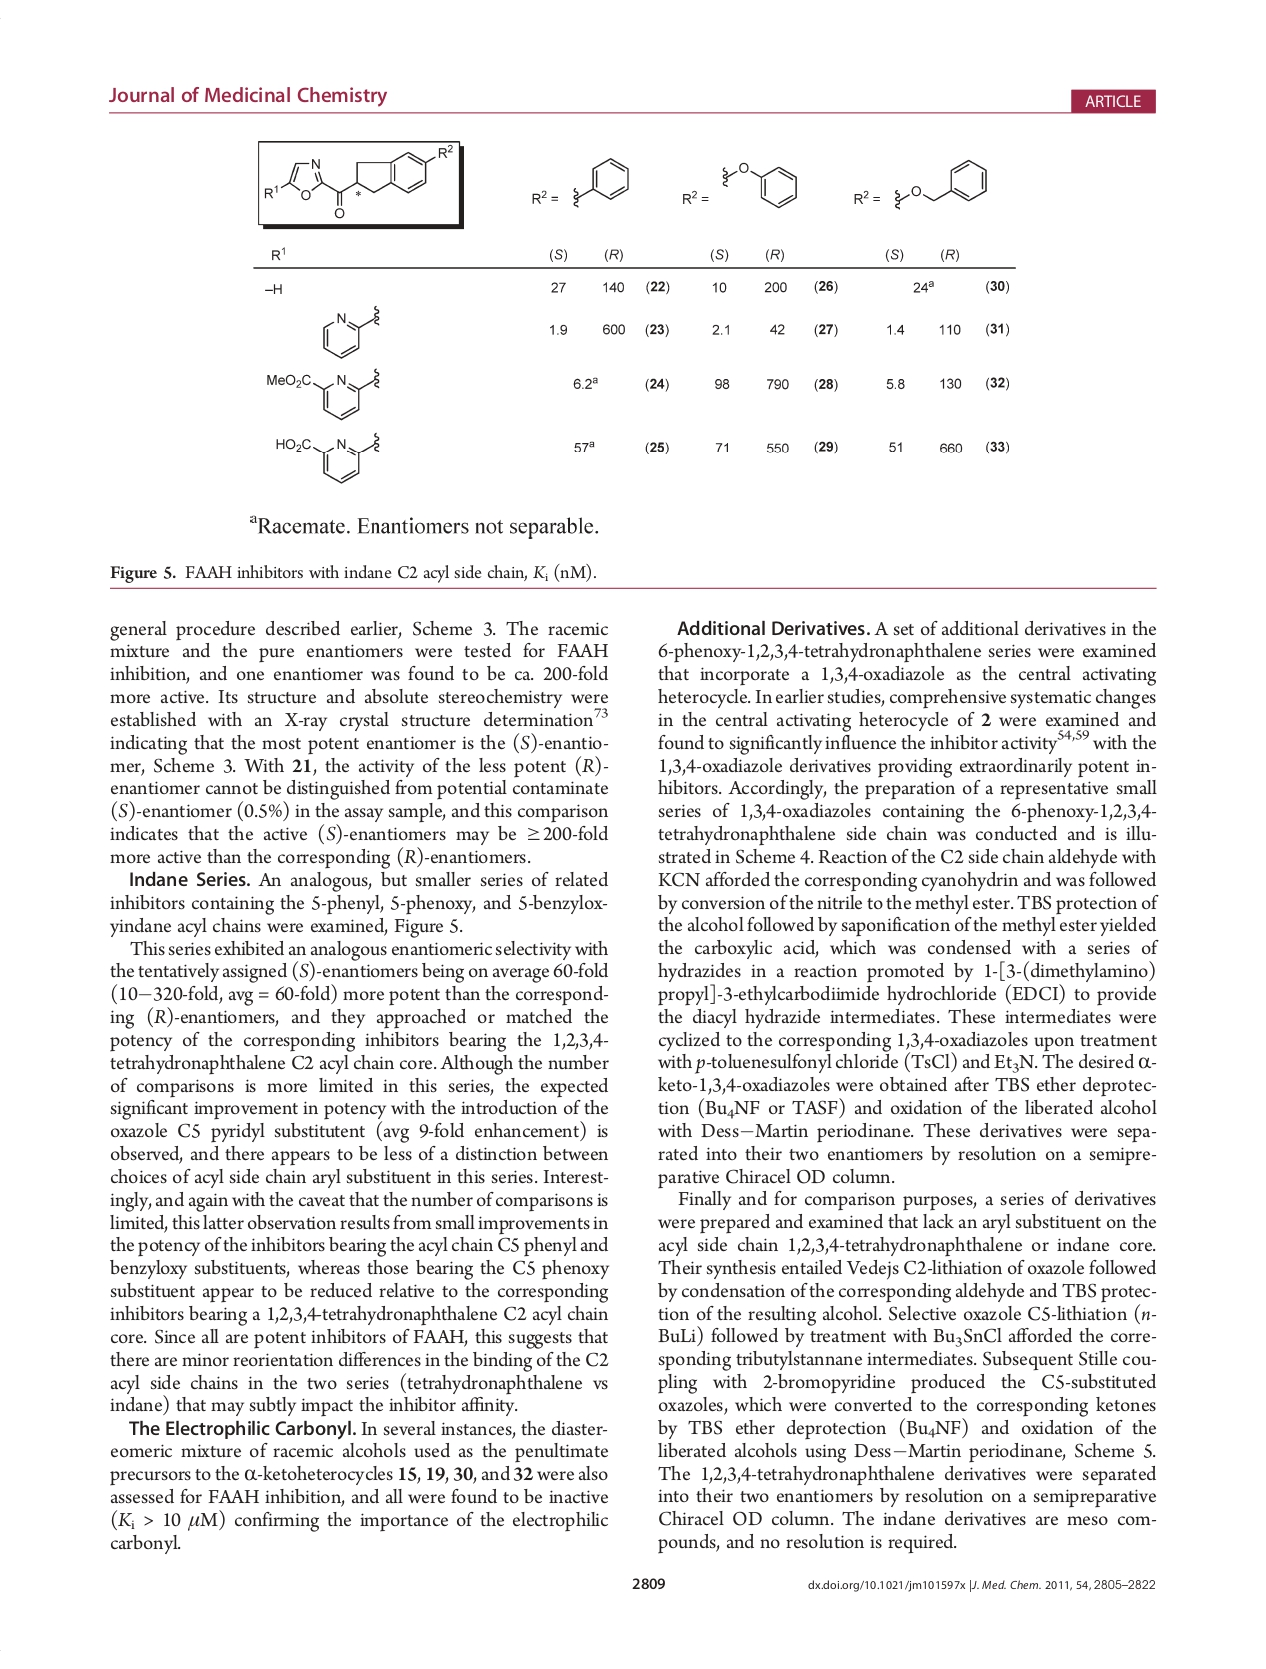exist_molecular: (259, 144, 453, 219), (270, 428, 383, 488), (259, 367, 383, 422), (894, 154, 989, 218), (567, 150, 636, 214), (719, 158, 801, 210), (313, 301, 382, 360)
